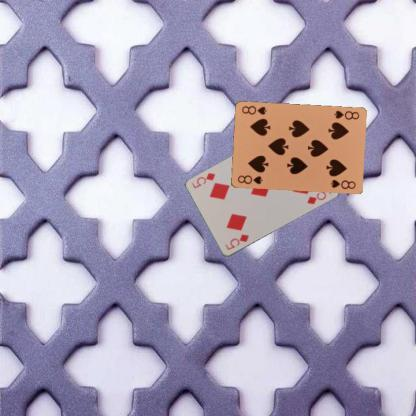5d: (223, 232, 250, 251)
8s: (331, 108, 360, 121), (235, 173, 264, 185)
